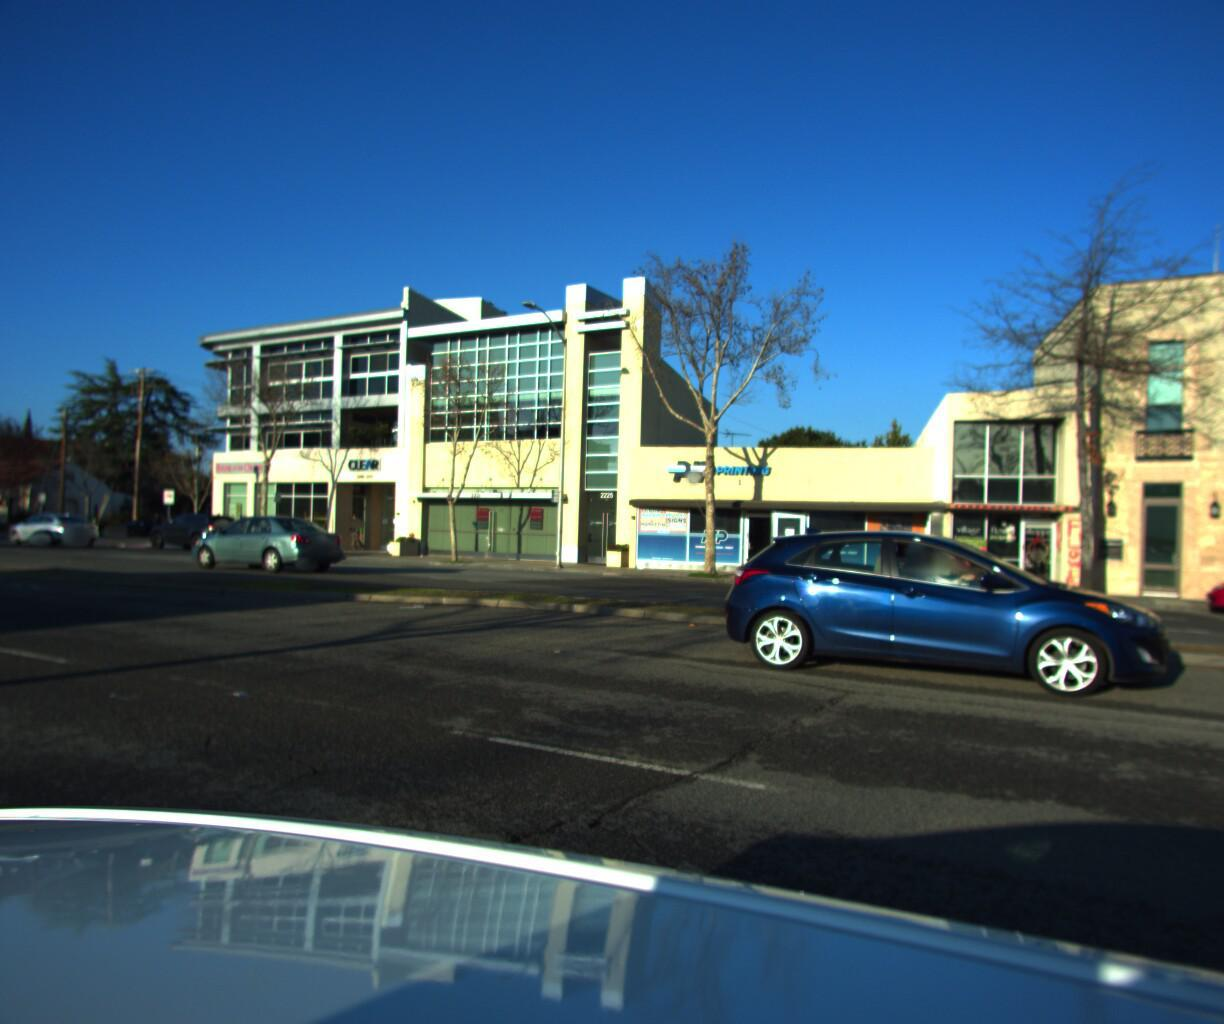car: (702, 502, 1171, 706), (179, 506, 349, 573), (135, 506, 246, 551), (0, 502, 101, 542), (1190, 542, 1224, 629), (99, 510, 175, 533)
